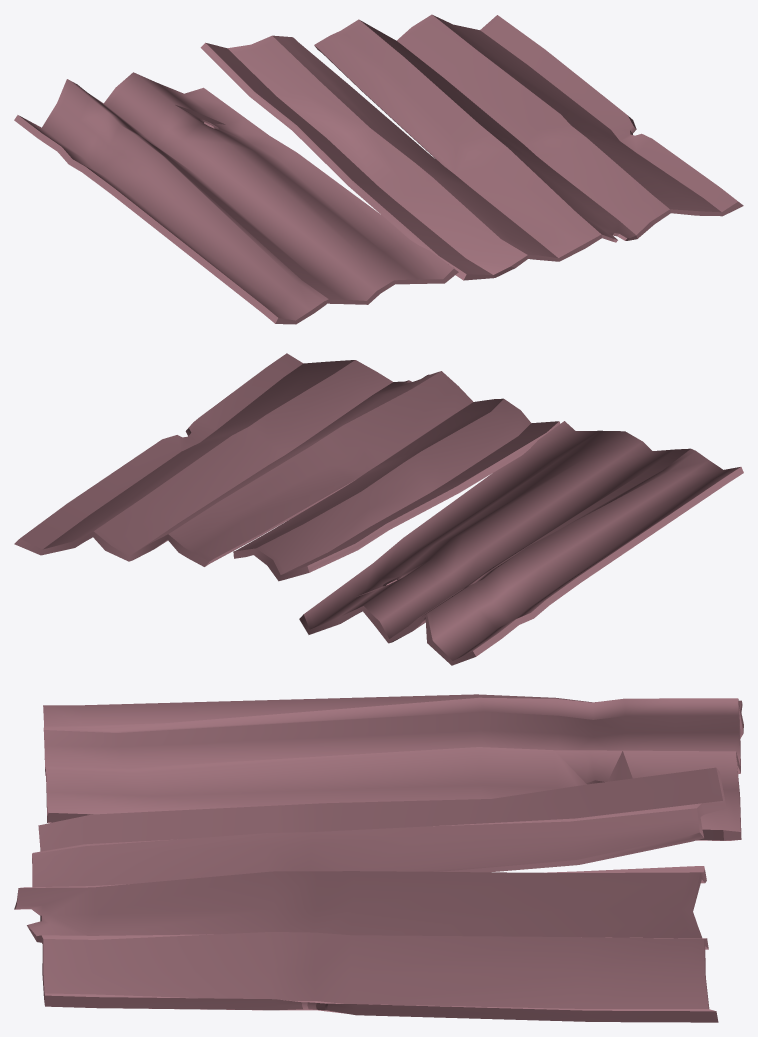
Rendered from metalsheet.fbx.
The picture shows the model from 3 angles, top to bottom: view 1: azimuth 30°, elevation 25°; view 2: azimuth 150°, elevation 25°; view 3: azimuth 270°, elevation 25°; orthographic projection. The views are drawn at different scales.
Visible parts, largest first — view 1: metalsheet; view 2: metalsheet; view 3: metalsheet.
Boxes of the visible parts, x1,y1,x2,y2 form: metalsheet: (14, 14, 743, 324); metalsheet: (14, 353, 743, 665); metalsheet: (14, 694, 743, 1022).
Size of the model in its own units: 101 by 12.31 by 101.
